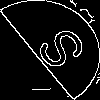S: (25, 25, 90, 78)
